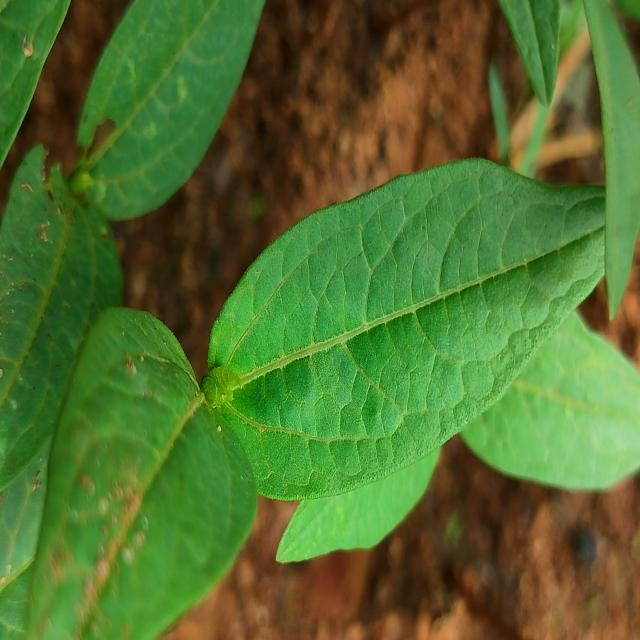Black gram_healthy: (210, 153, 606, 498), (29, 303, 258, 640), (80, 3, 266, 218)
